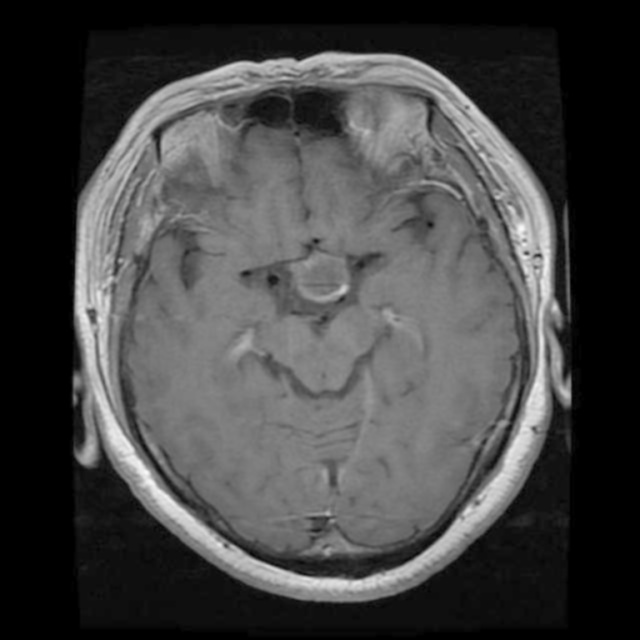no tumor: (282, 246, 362, 299)
